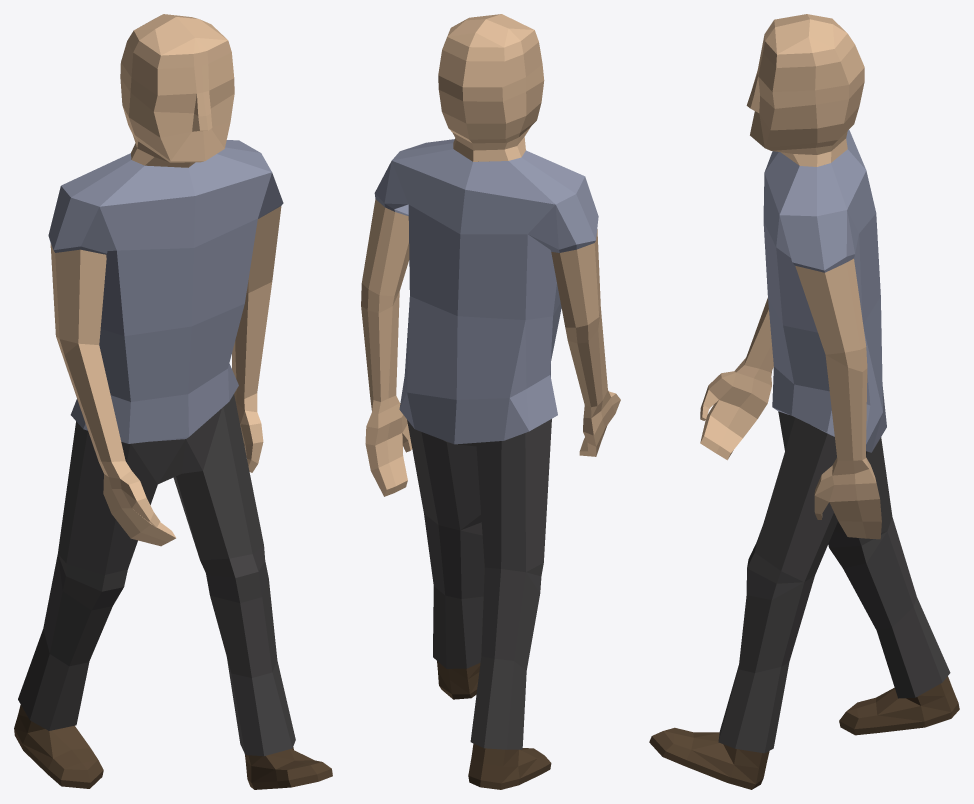
The model's file is Male_Walking.glb.
The picture shows the model from 3 angles, left to right: view 1: azimuth 30°, elevation 25°; view 2: azimuth 150°, elevation 25°; view 3: azimuth 270°, elevation 25°; orthographic projection. The views are drawn at different scales.
Visible parts, largest first — view 1: Male_Walking; view 2: Male_Walking; view 3: Male_Walking.
Part boxes in pixels (x1,y1,x2,y2): Male_Walking: (14,14,332,789); Male_Walking: (361,14,620,789); Male_Walking: (649,14,959,789).
Bounding box in the file's own units: 1.22 × 3.84 × 1.46.
